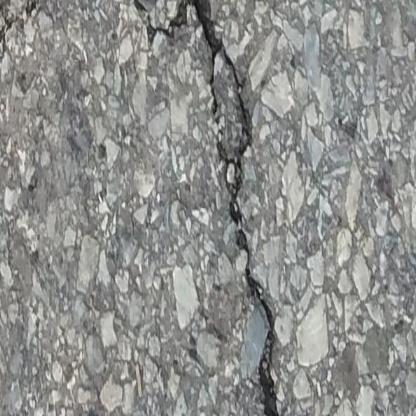Cracks: (114, 0, 290, 416), (0, 0, 65, 109)
